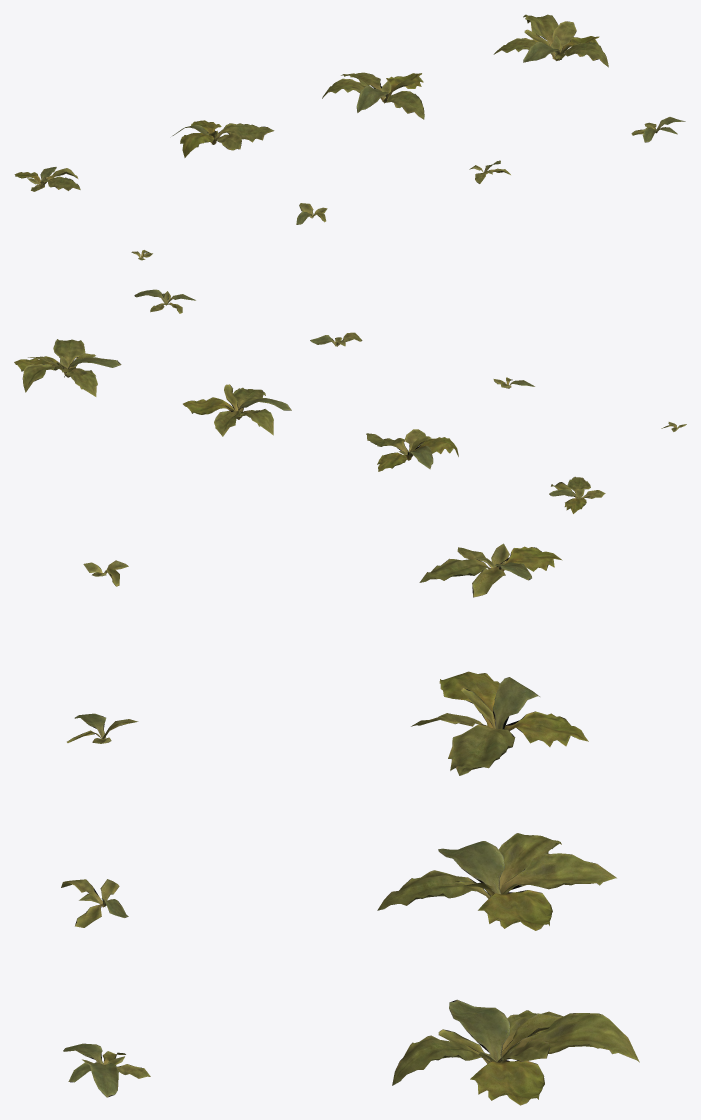
The model's file is crystalline_iceplant.glb.
3 renders of one model, top to bottom at view 1: azimuth 30°, elevation 25°; view 2: azimuth 150°, elevation 25°; view 3: azimuth 270°, elevation 25°, orthographic. The views are drawn at different scales.
Parts seen in each view (by area): view 1: crystalline_iceplant_a_LOD0, crystalline_iceplant_b_LOD0, crystalline_iceplant_c_LOD0, crystalline_iceplant_d_LOD0, crystalline_iceplant_e_LOD0; view 2: crystalline_iceplant_a_LOD0, crystalline_iceplant_b_LOD0, crystalline_iceplant_c_LOD0, crystalline_iceplant_d_LOD0, crystalline_iceplant_e_LOD0, crystalline_iceplant_f_LOD0; view 3: crystalline_iceplant_a_LOD0, crystalline_iceplant_b_LOD0, crystalline_iceplant_c_LOD0, crystalline_iceplant_d_LOD0, crystalline_iceplant_e_LOD0, crystalline_iceplant_f_LOD0.
Boxes of the visible parts, <box> form: crystalline_iceplant_a_LOD0: <box>493,14,608,67</box>; crystalline_iceplant_b_LOD0: <box>322,72,424,119</box>; crystalline_iceplant_c_LOD0: <box>172,120,274,157</box>; crystalline_iceplant_d_LOD0: <box>14,167,80,191</box>; crystalline_iceplant_e_LOD0: <box>631,117,685,142</box>; crystalline_iceplant_a_LOD0: <box>14,339,121,396</box>; crystalline_iceplant_b_LOD0: <box>183,384,291,436</box>; crystalline_iceplant_c_LOD0: <box>366,429,458,471</box>; crystalline_iceplant_d_LOD0: <box>549,476,605,513</box>; crystalline_iceplant_e_LOD0: <box>134,289,195,313</box>; crystalline_iceplant_f_LOD0: <box>310,332,362,346</box>; crystalline_iceplant_a_LOD0: <box>392,999,639,1105</box>; crystalline_iceplant_b_LOD0: <box>377,833,616,930</box>; crystalline_iceplant_c_LOD0: <box>411,671,588,775</box>; crystalline_iceplant_d_LOD0: <box>419,543,562,597</box>; crystalline_iceplant_e_LOD0: <box>63,1043,150,1097</box>; crystalline_iceplant_f_LOD0: <box>61,879,128,927</box>.
Size of the model in its own units: 1.69 by 0.0822 by 0.7368.
1 material, 1 textured.
